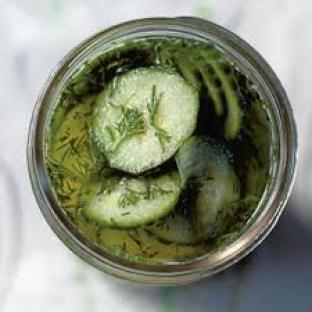Cucumber: (92, 68, 198, 173), (172, 48, 242, 140), (177, 138, 239, 238), (84, 174, 180, 228), (202, 53, 242, 138), (146, 213, 198, 245)
